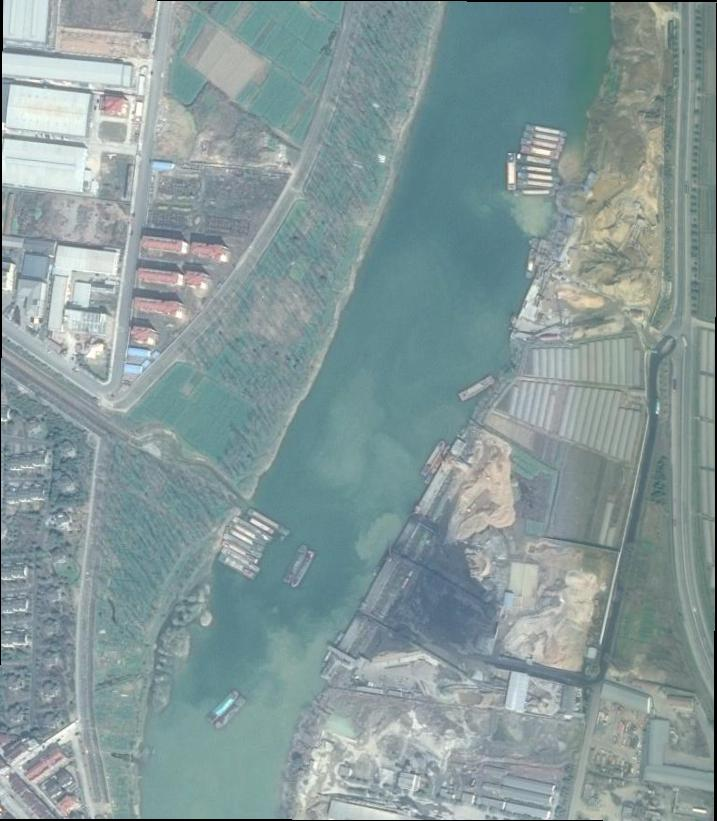ship: (247, 508, 291, 537), (245, 514, 286, 541), (221, 546, 262, 573), (207, 690, 240, 723), (214, 696, 246, 730), (223, 533, 264, 559), (218, 554, 257, 580), (226, 526, 266, 551), (234, 517, 273, 542), (459, 375, 496, 401), (426, 445, 451, 483), (283, 546, 308, 584), (222, 540, 260, 564), (420, 442, 446, 477), (231, 522, 268, 544), (292, 552, 315, 587), (523, 131, 566, 145), (521, 145, 560, 160), (526, 125, 568, 138), (521, 139, 563, 151), (517, 154, 554, 166), (518, 172, 560, 182), (525, 248, 537, 278), (507, 152, 516, 190), (521, 165, 555, 175), (515, 190, 555, 197), (518, 182, 558, 188)
